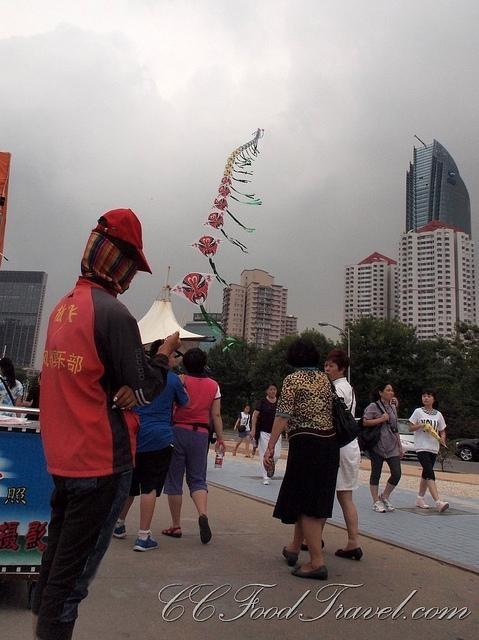car: (398, 418, 417, 458), (455, 438, 479, 461)
